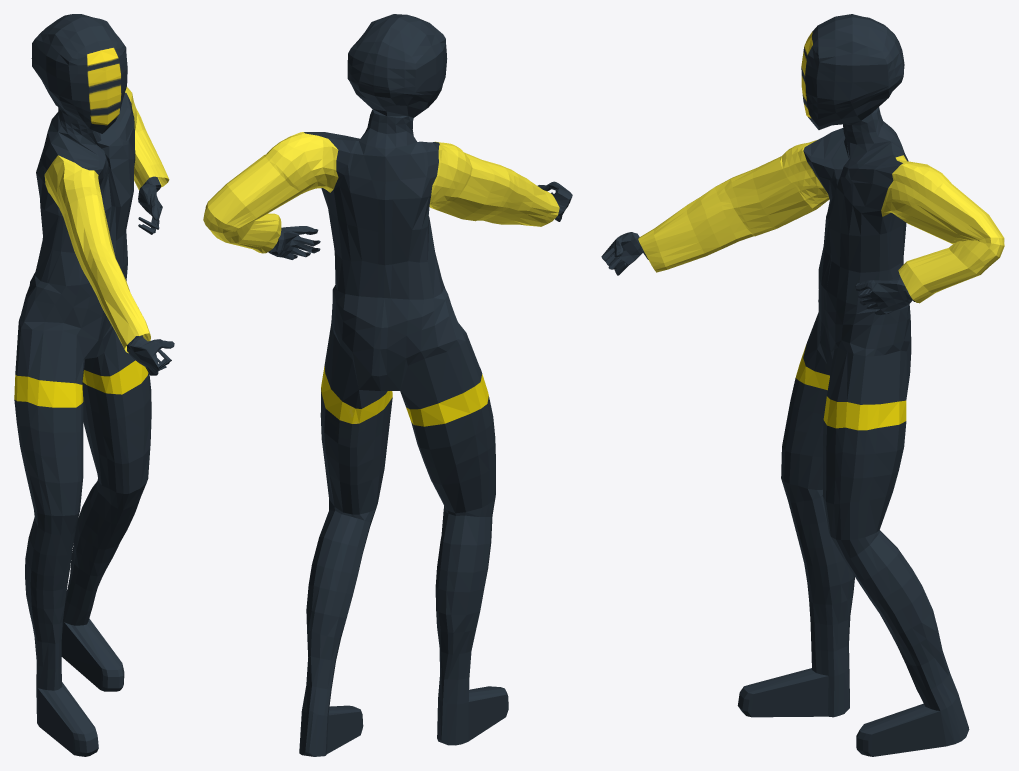
The model's file is Sentry_WB_000016.obj.
3 views of the same model, side by side, from view 1: azimuth 30°, elevation 25°; view 2: azimuth 150°, elevation 25°; view 3: azimuth 270°, elevation 25° (orthographic). The views are drawn at different scales.
Parts seen in each view (by area): view 1: Cube; view 2: Cube; view 3: Cube.
Boxes of the visible parts, x1,y1,x2,y2 form: Cube: (14,14,174,756); Cube: (203,14,572,756); Cube: (601,14,1004,756).
Bounding box in the file's own units: 1.15 × 3.89 × 1.98.
